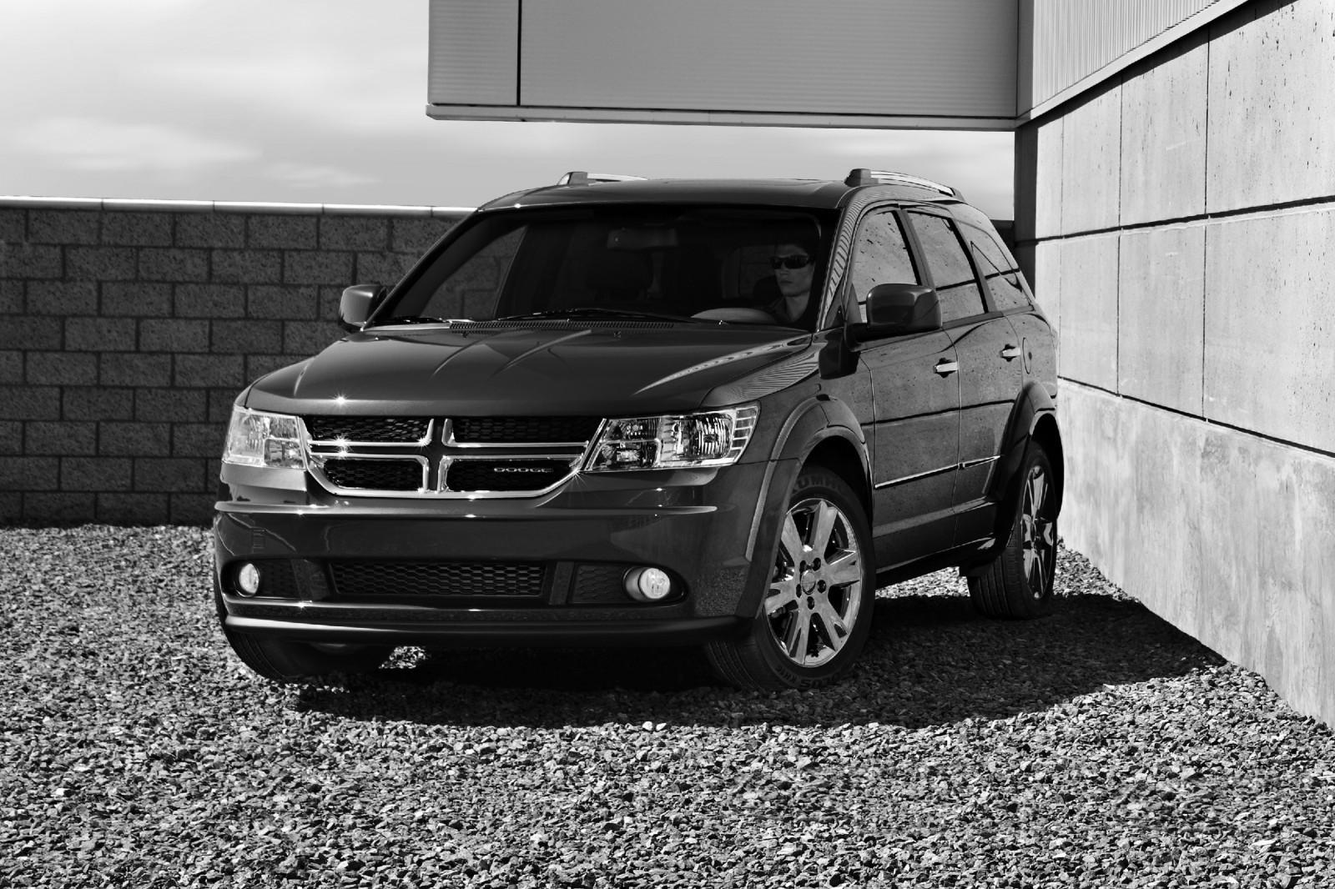car: (210, 168, 1064, 696)
